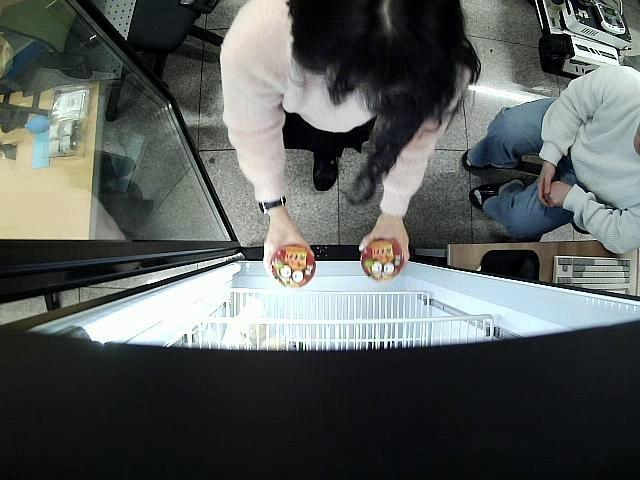06_nuguri_S: (272, 243, 316, 290), (360, 238, 404, 284)
